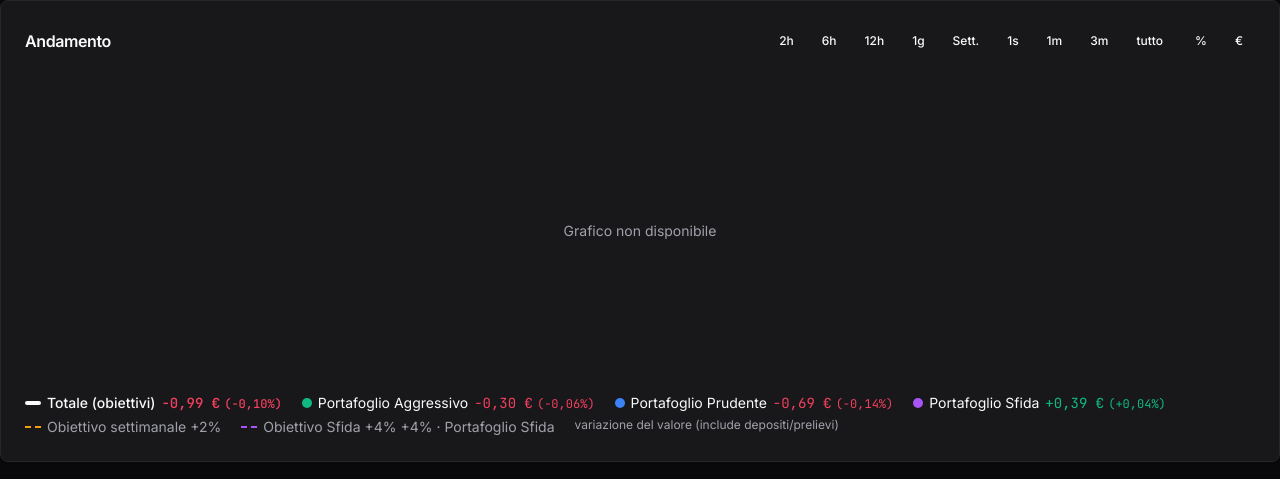
EquityHistoryCard › data the chart refuses: «Grafico non disponibile» in the card, the rest of the page stays
Expected: the text "Grafico non disponibile" is shown, [564, 222, 716, 239]
Expected: the list named "Legenda" is shown, [25, 393, 1255, 437]
Click the button "€" at (1239, 41), box [1223, 25, 1255, 57]
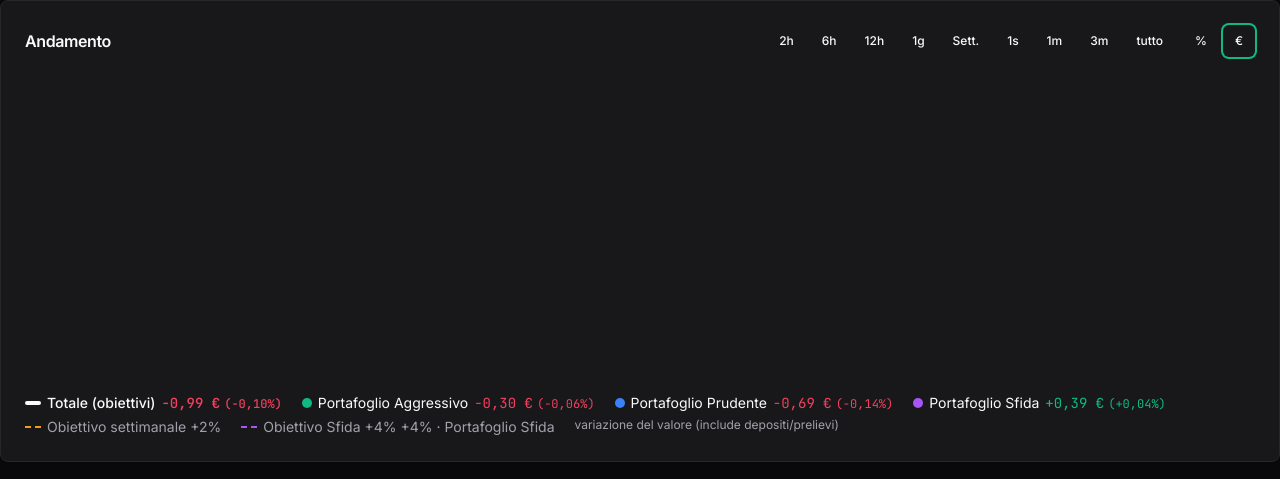
Now the text "Grafico non disponibile" is gone
